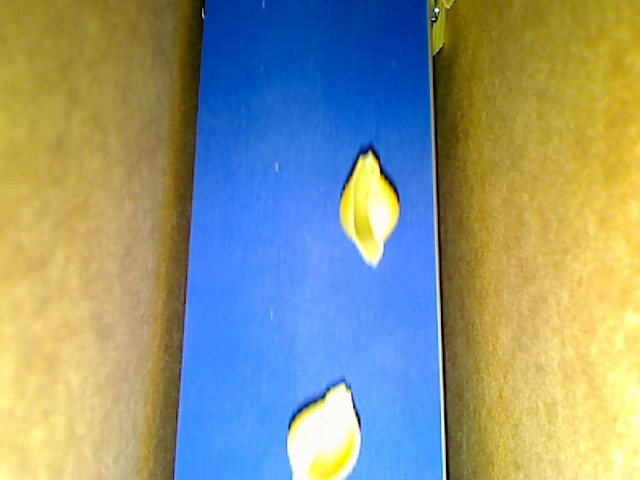penne: (426, 1, 448, 61)
shell: (284, 372, 367, 479), (337, 147, 399, 269)
